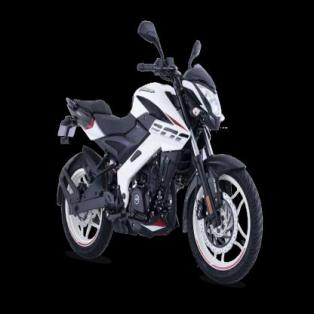Motocicleta: (53, 19, 267, 290)
